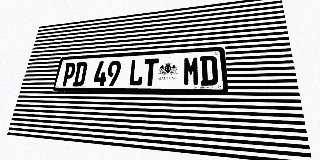4: (93, 61, 109, 86)
9: (106, 60, 122, 86)
D: (200, 55, 218, 86), (72, 62, 88, 86)
L: (128, 59, 144, 86)
M: (183, 56, 200, 86)
P: (61, 62, 77, 86)
T: (143, 58, 159, 86)
